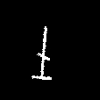double_crochet: (32, 26, 50, 79)
